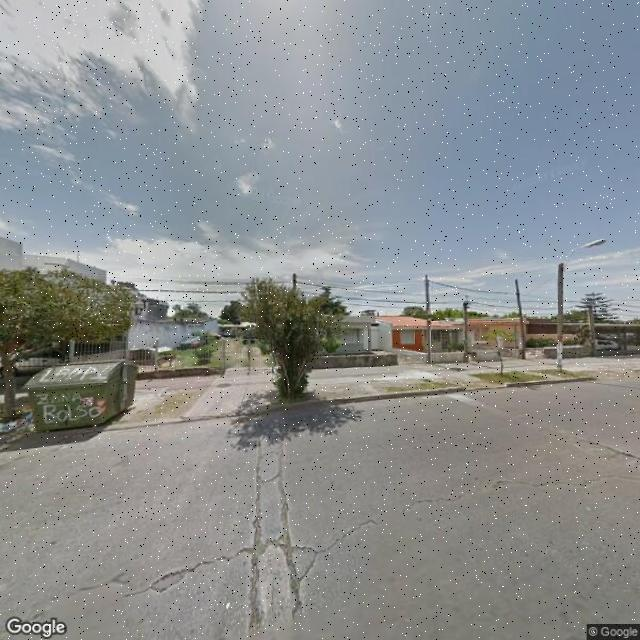garbage container: (14, 352, 151, 451)
